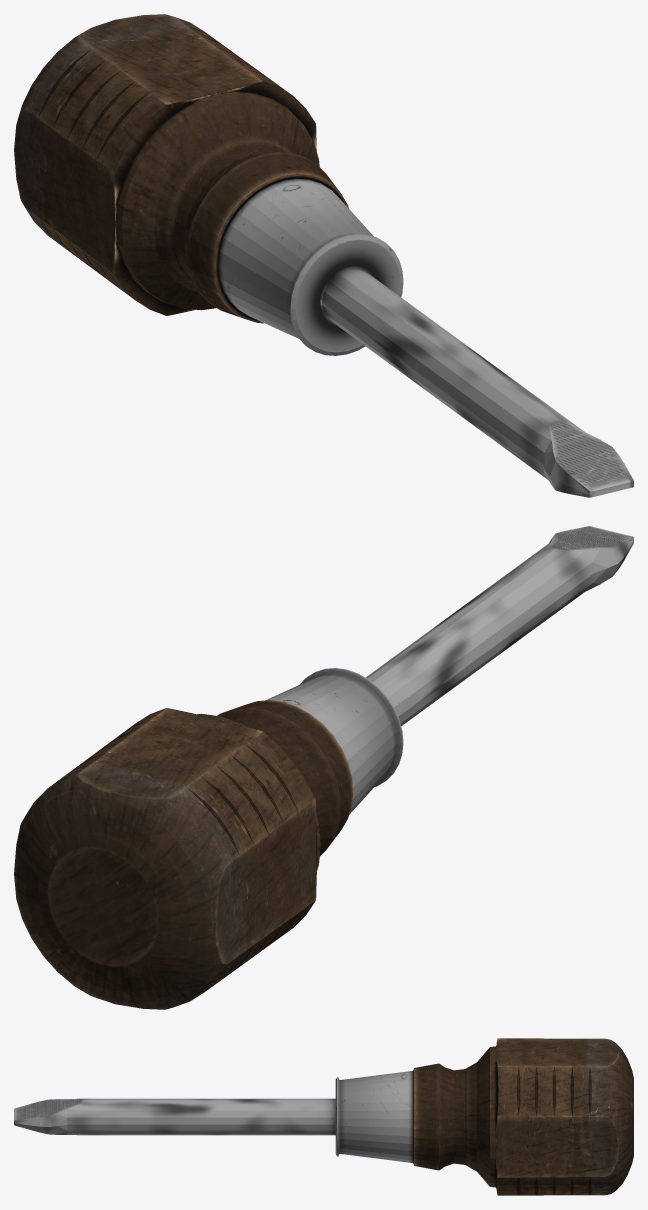
File: workshop_stubby_phillips_driver.obj
3 renders of one model, top to bottom at view 1: azimuth 30°, elevation 25°; view 2: azimuth 150°, elevation 25°; view 3: azimuth 270°, elevation 25°, orthographic. The views are drawn at different scales.
Size of the model in its own units: 0.0298 by 0.0298 by 0.13.
1 material, 1 textured.
